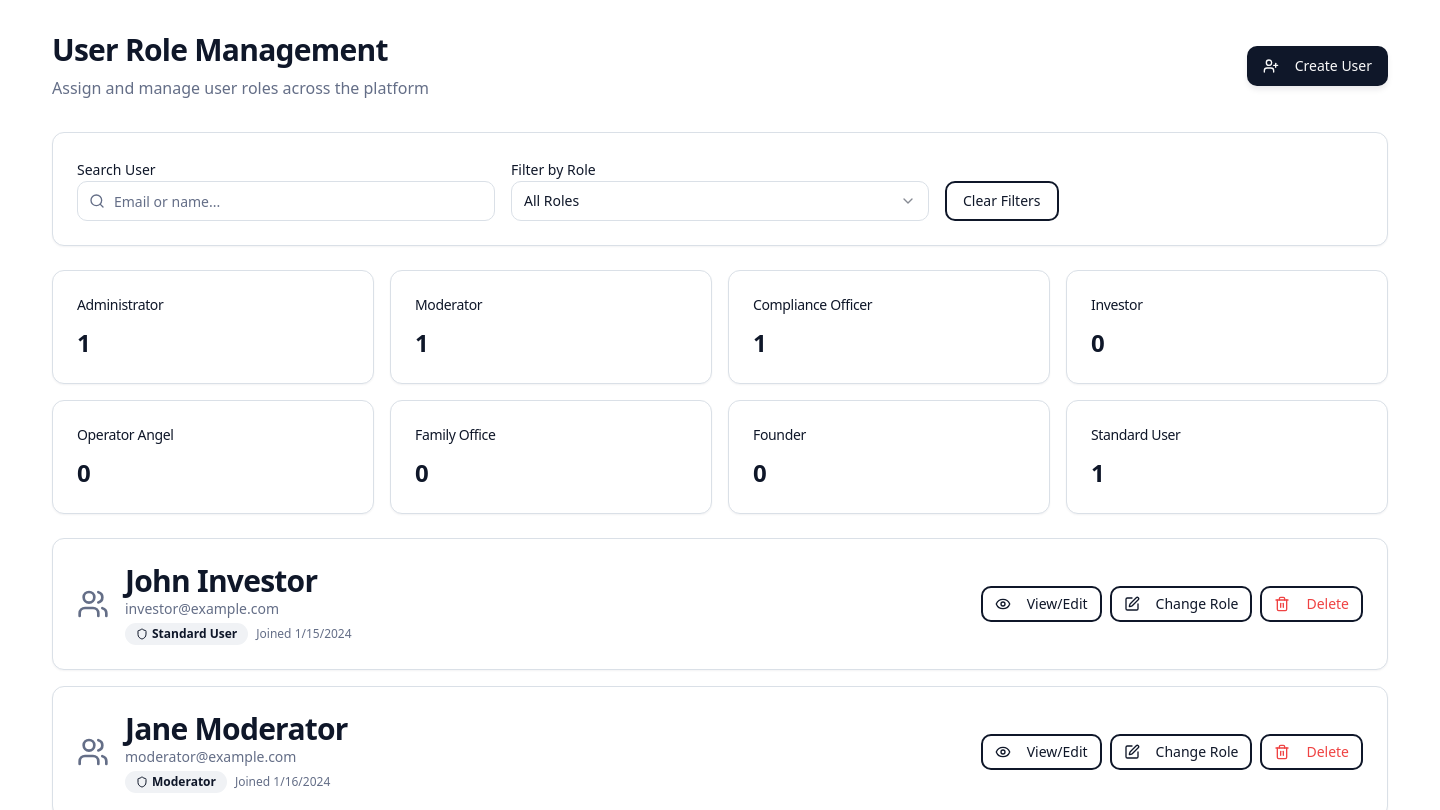
Scenario: US-ADMIN-001: User Role Management › Filter by Role › should filter users by selected role
Expected: the heading "John Investor" is shown, [125, 560, 317, 601]
Find and click the role filter dropdown
Click the dropdown at x=552, y=200, box [511, 181, 929, 221]
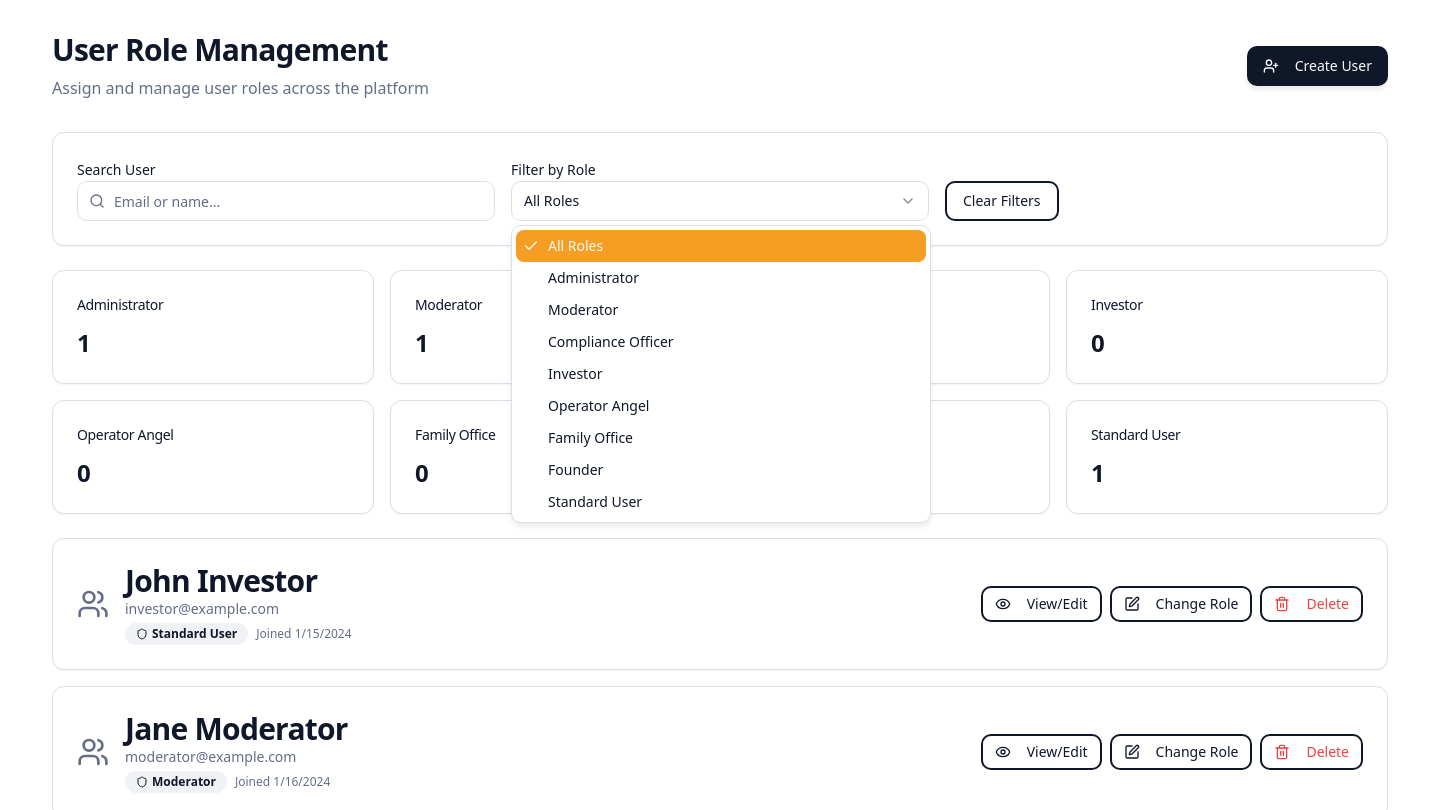
Select moderator role
Click the option "Moderator" at x=583, y=310, box [548, 300, 618, 319]
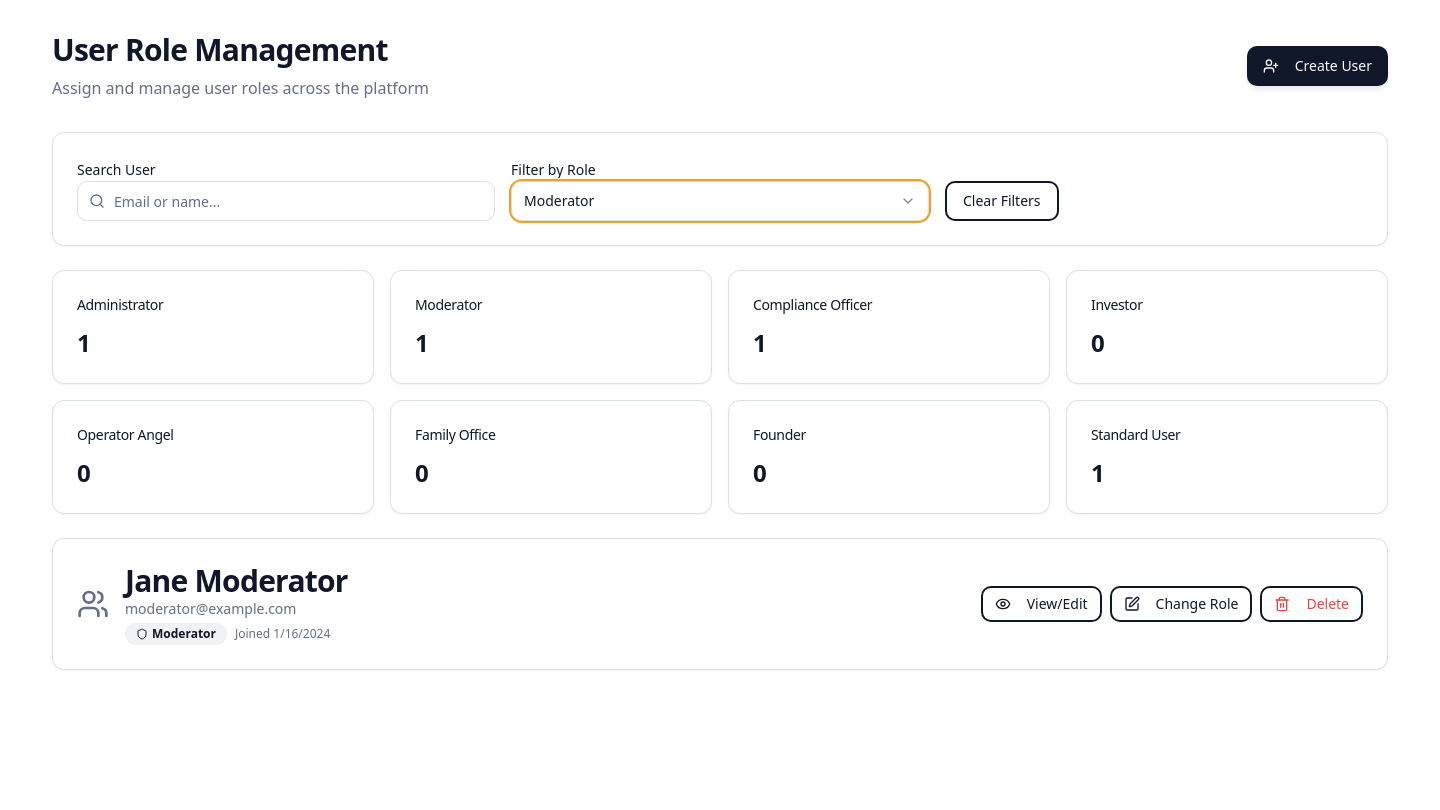
Expected: the heading "Jane Moderator" is shown, [125, 563, 348, 599]
Result: the heading "John Investor" is gone
